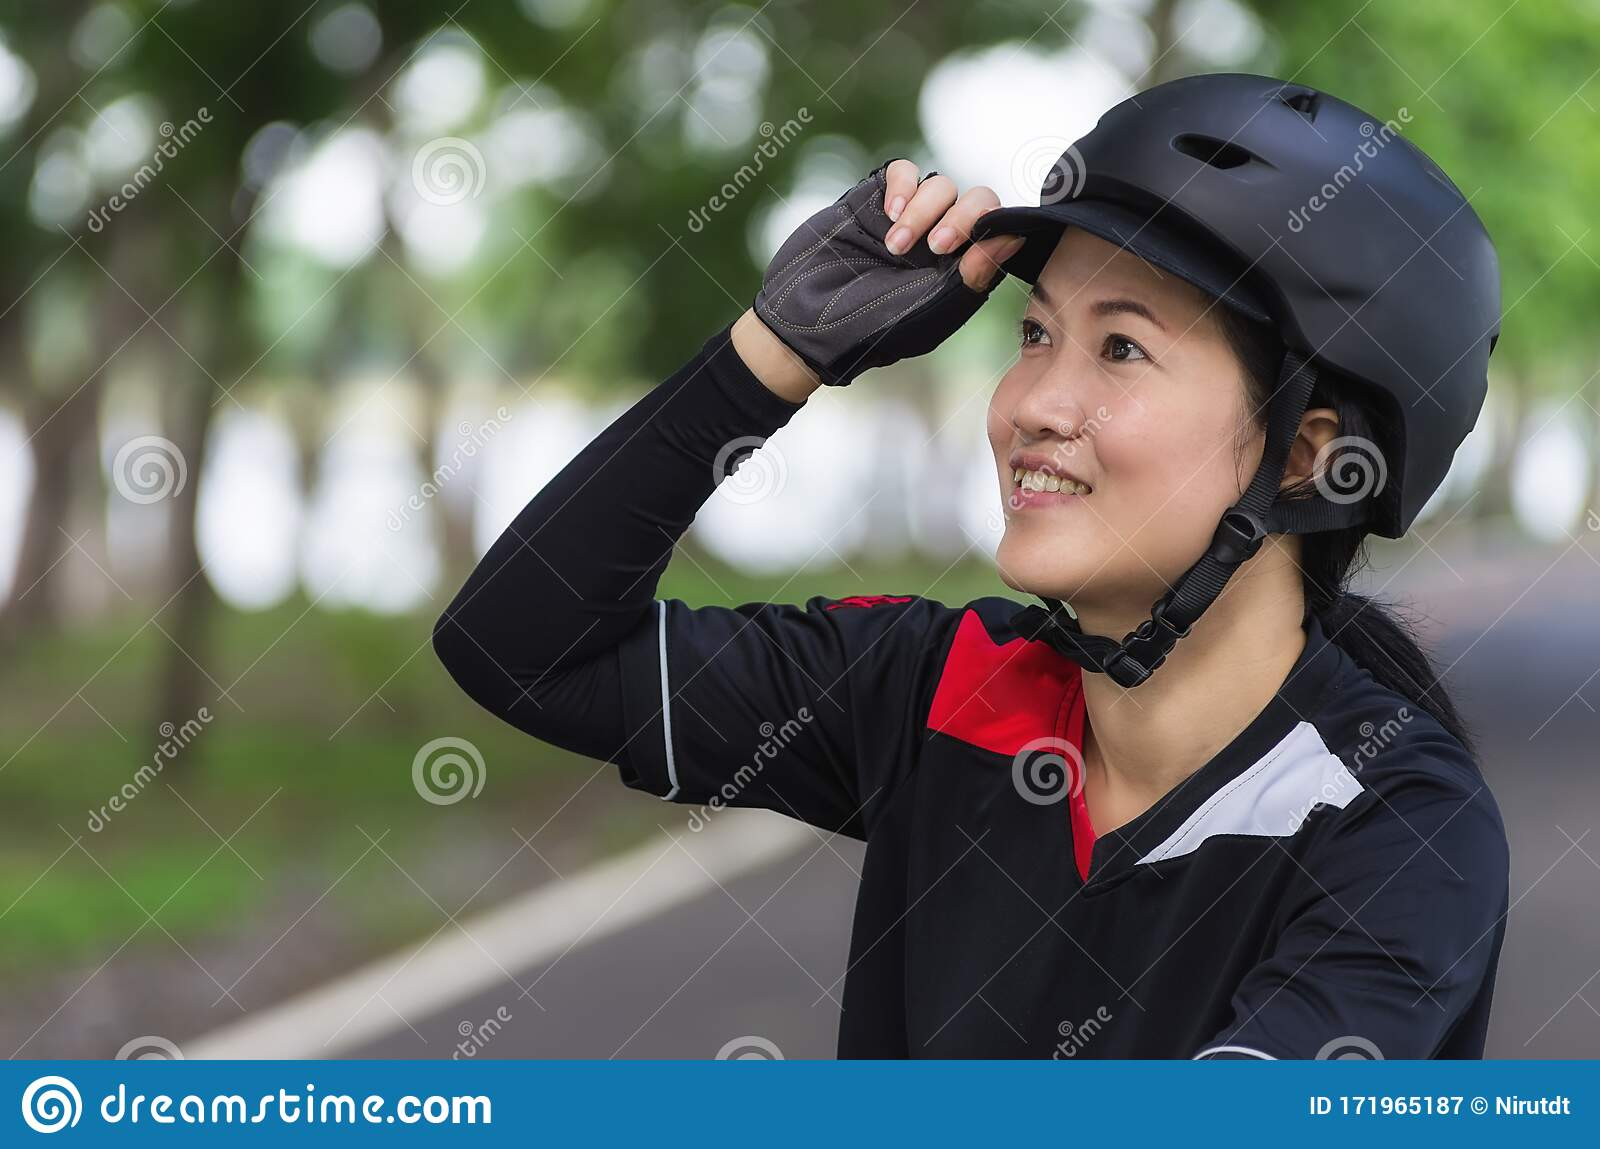helmet: (971, 73, 1504, 596)
